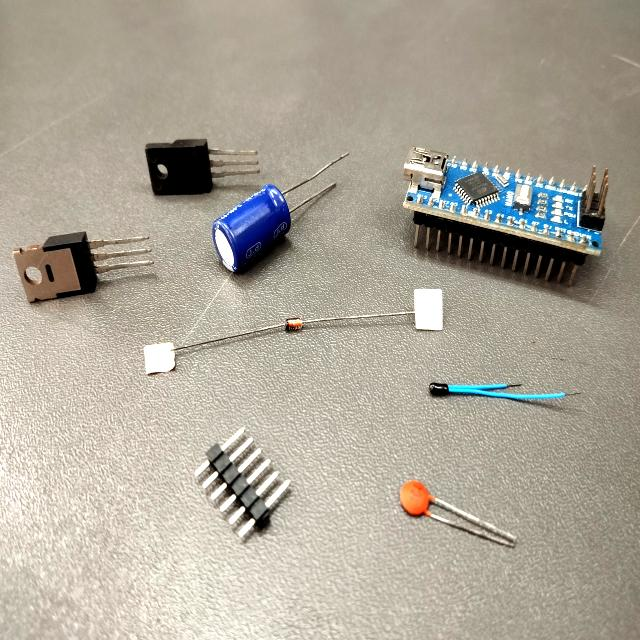capacitor: (212, 188, 291, 278), (384, 476, 464, 544)
